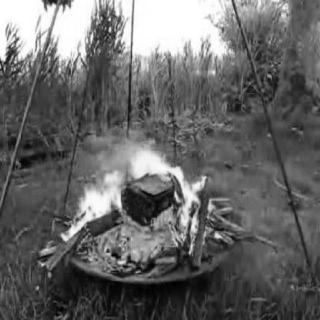Fire: (52, 97, 238, 281)
